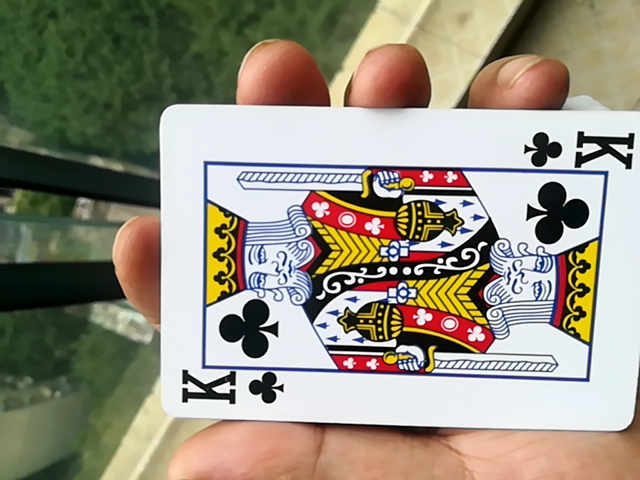mh k: (145, 110, 635, 451)
